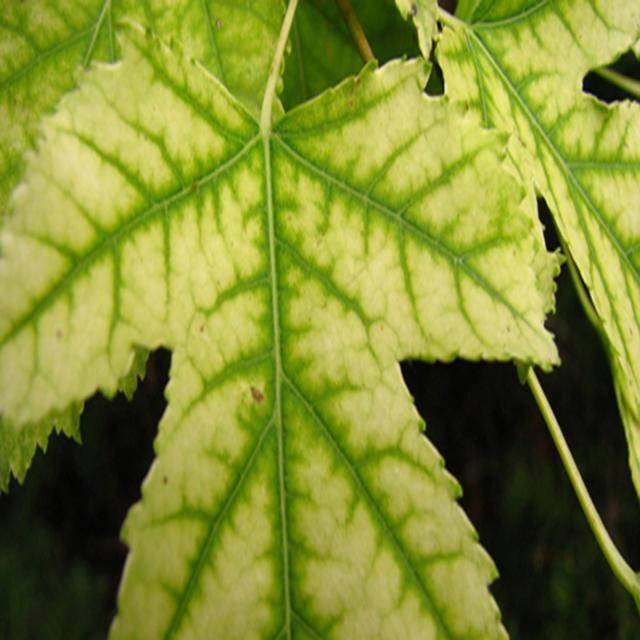Chlorosis: (5, 7, 640, 625)
